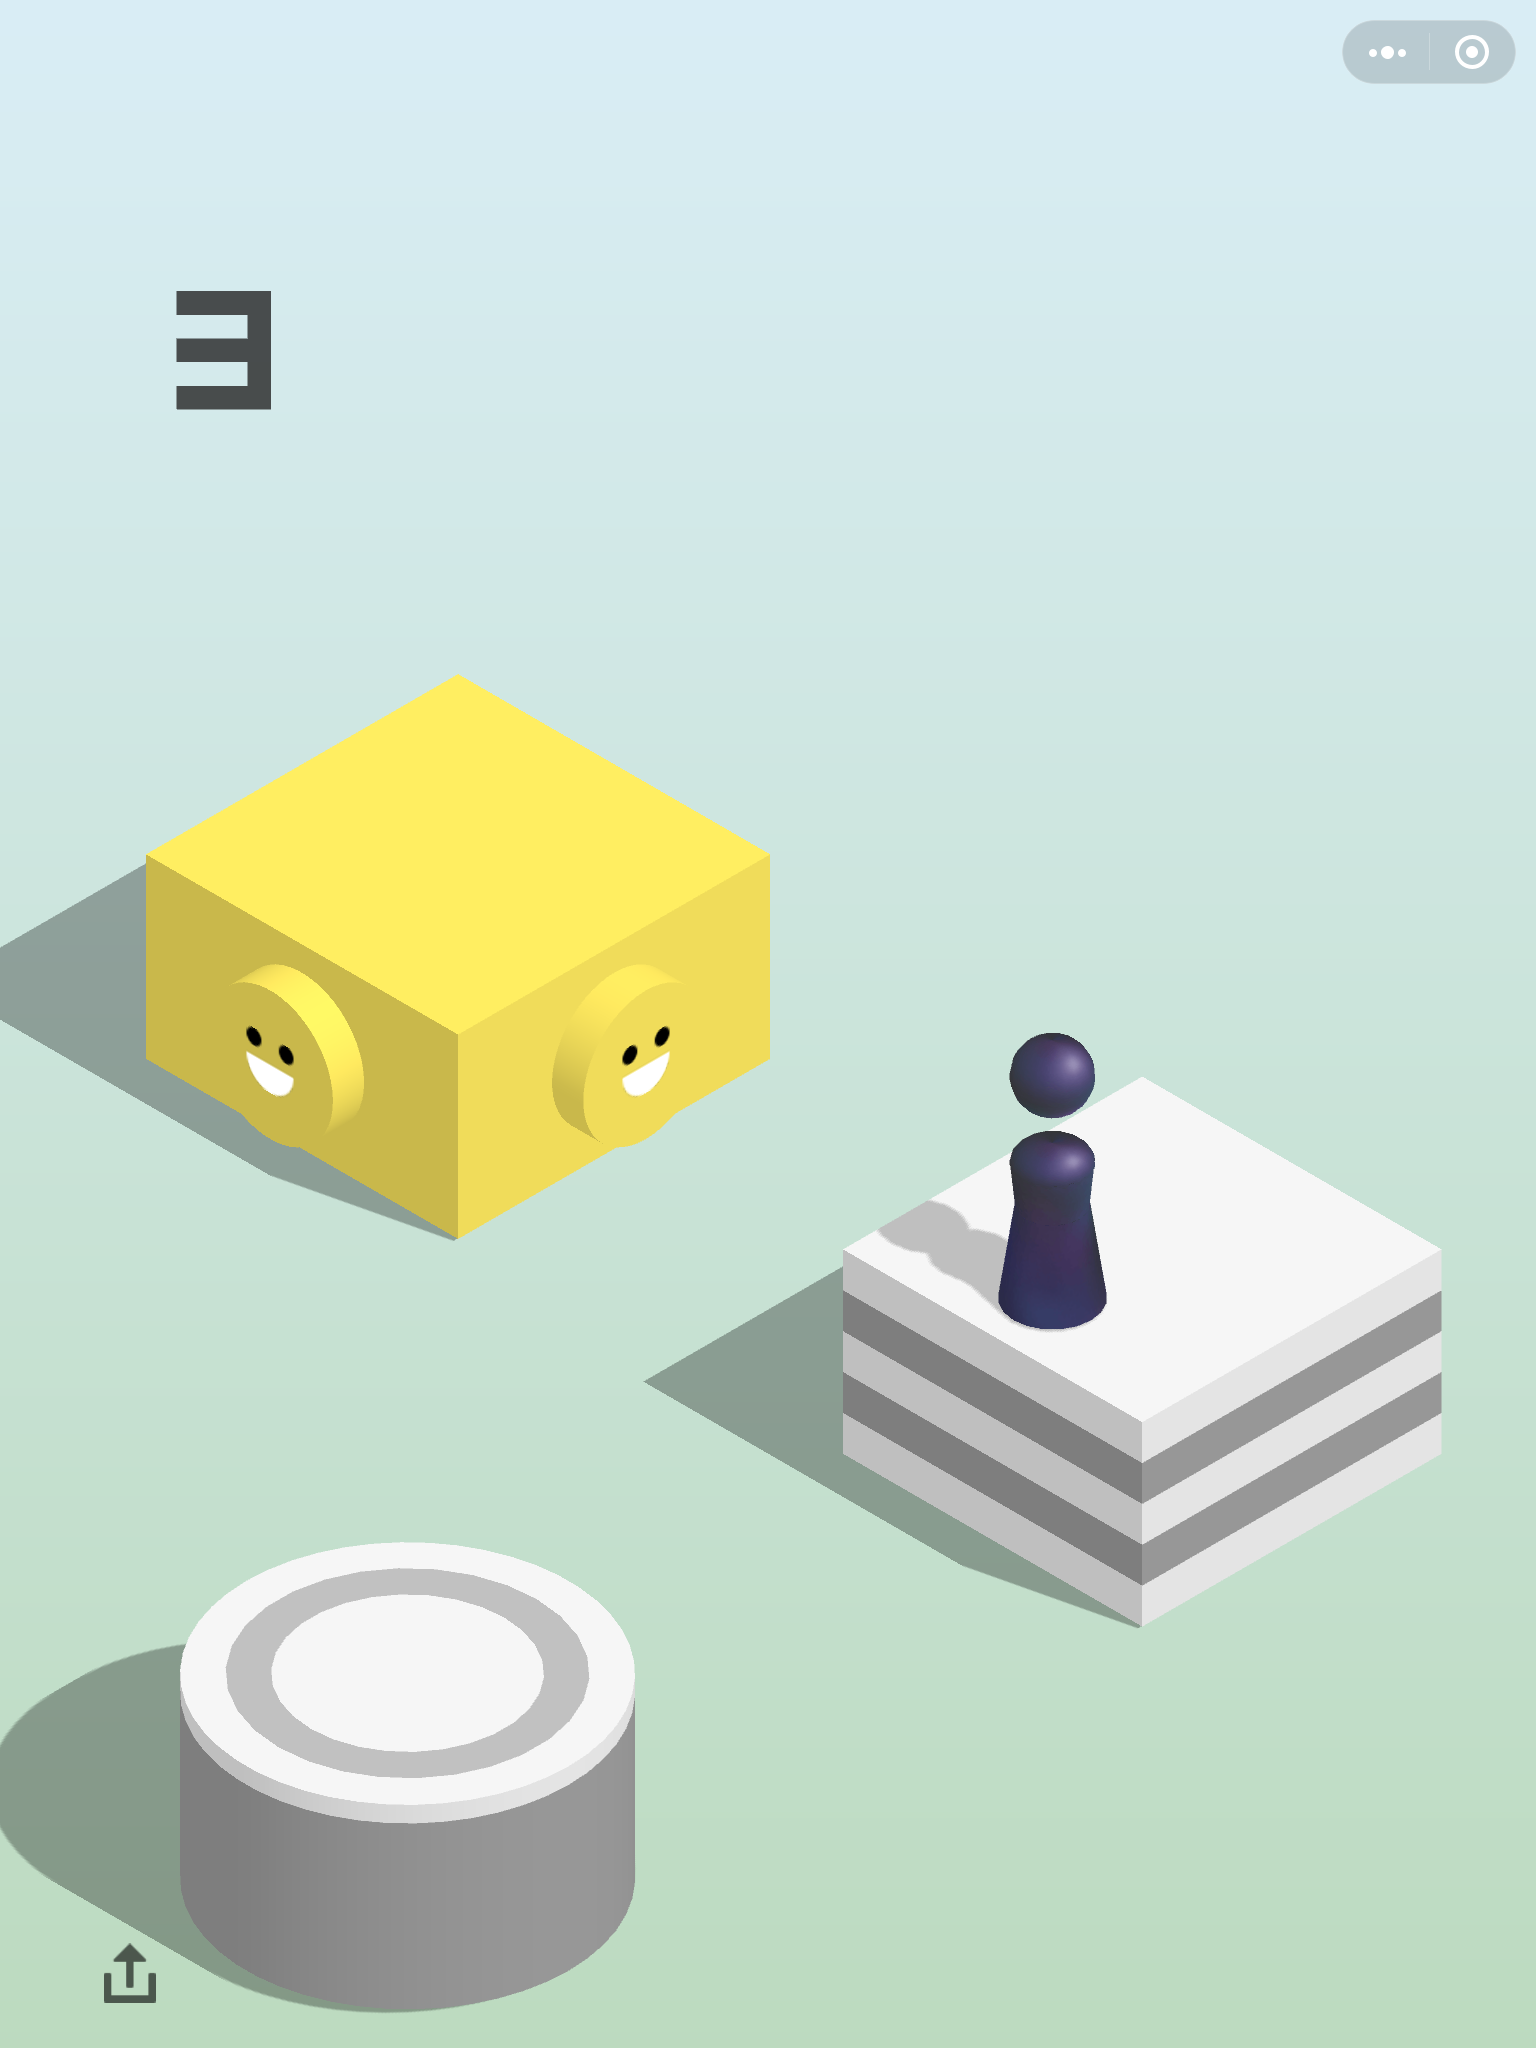c: (171, 1535, 641, 2022)
f: (134, 668, 778, 1248), (834, 1066, 1450, 1630)
r: (994, 1024, 1113, 1334)
